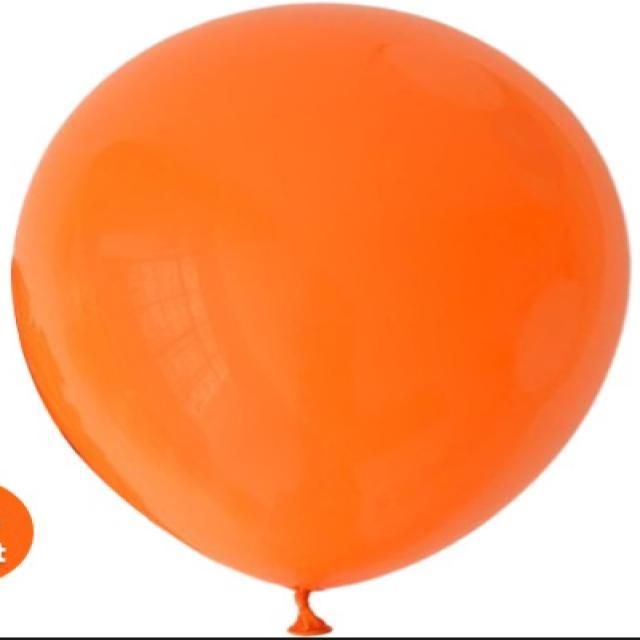red: (8, 0, 631, 636)
